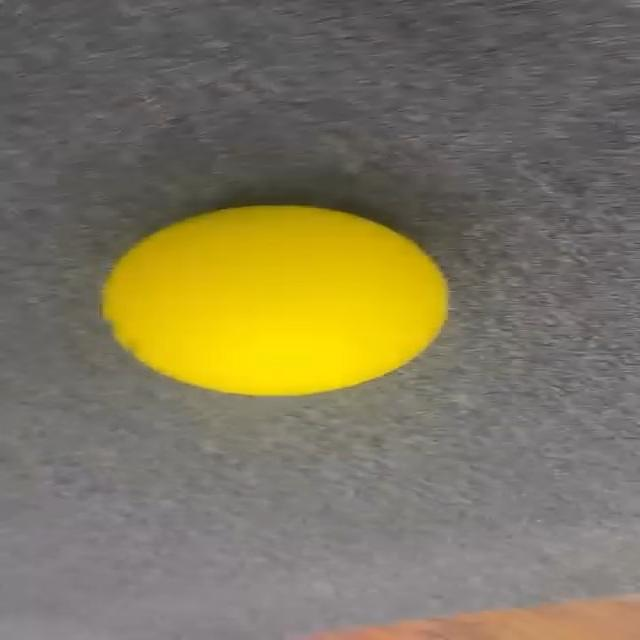Fuels: (103, 206, 444, 395)
